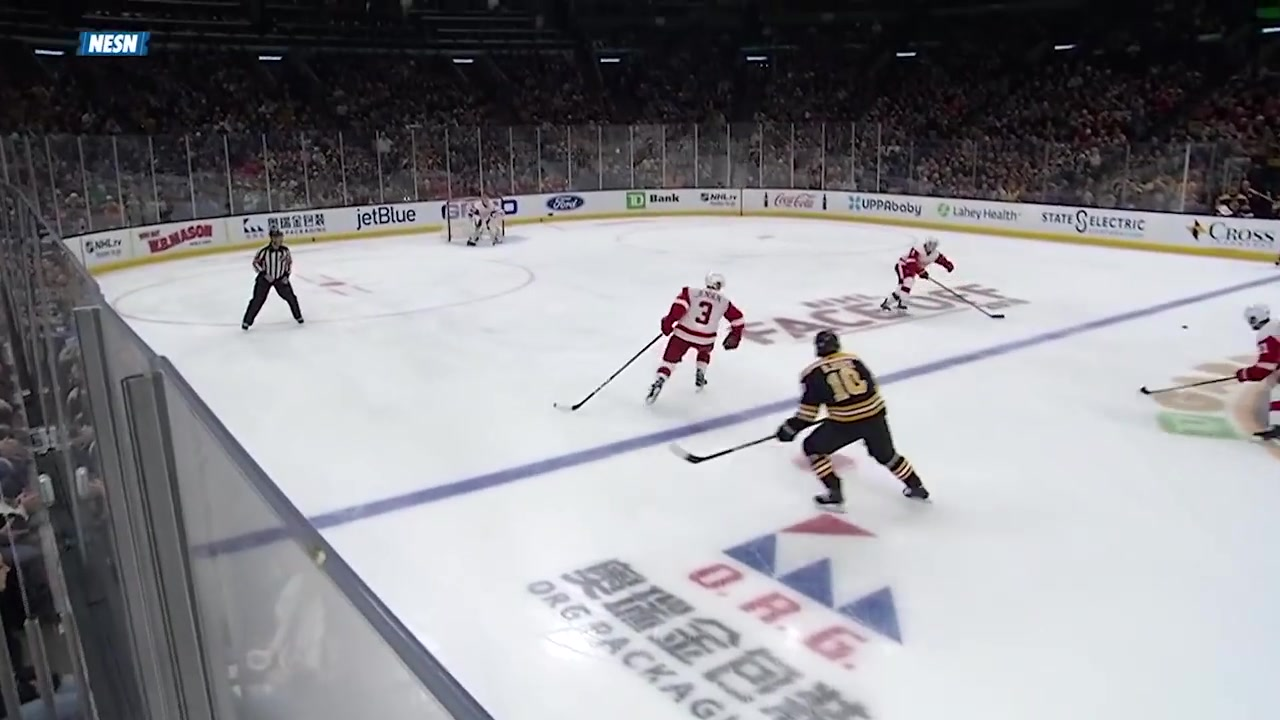Geico: (439, 194, 518, 225)
